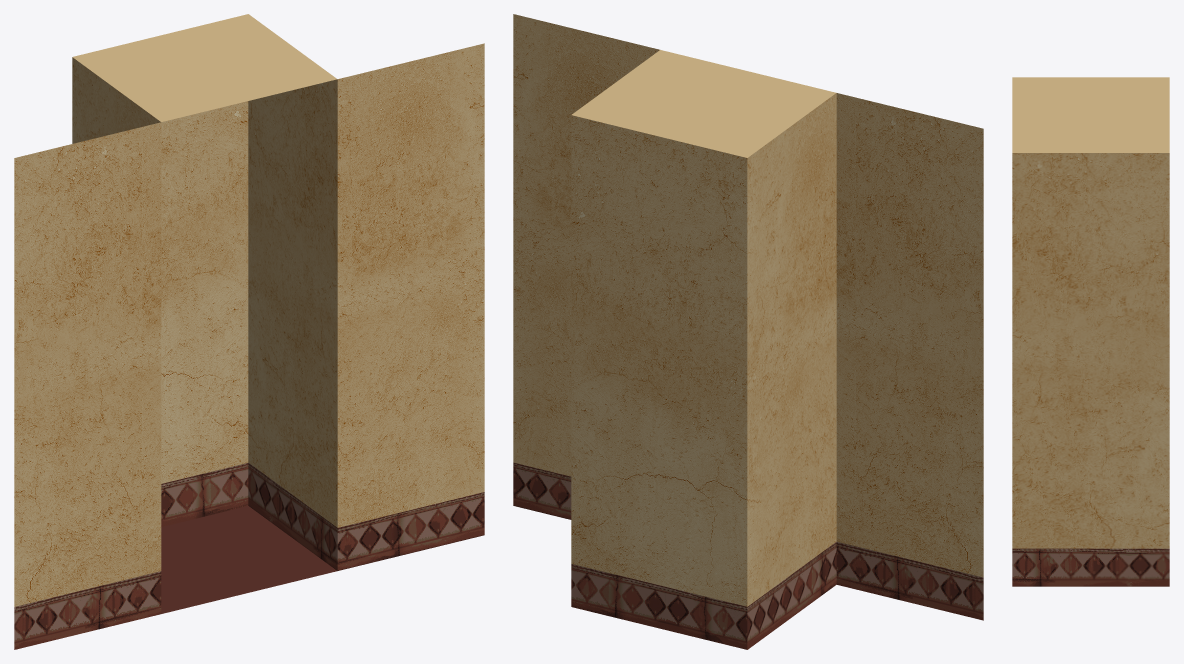
The model's file is CavityWall.fbx.
3 renders of one model, left to right at view 1: azimuth 30°, elevation 25°; view 2: azimuth 150°, elevation 25°; view 3: azimuth 270°, elevation 25°, orthographic. The views are drawn at different scales.
Parts seen in each view (by area): view 1: CavityWall; view 2: CavityWall; view 3: CavityWall.
Part boxes in pixels (left/top/right/bottom): CavityWall: left=14, top=14, right=484, bottom=649; CavityWall: left=513, top=14, right=983, bottom=649; CavityWall: left=1012, top=77, right=1169, bottom=586.
Size of the model in its own units: 600 by 600 by 197.
